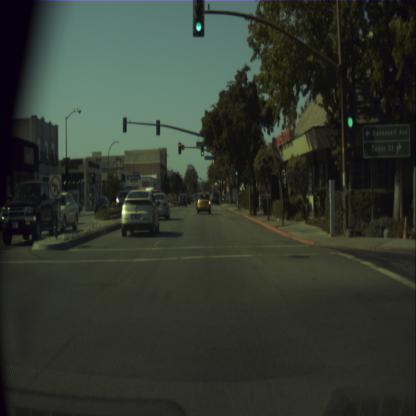Green: (346, 86, 356, 132), (192, 0, 204, 36), (200, 146, 204, 156), (235, 170, 238, 176)
Red: (91, 172, 95, 183), (178, 142, 181, 154)
